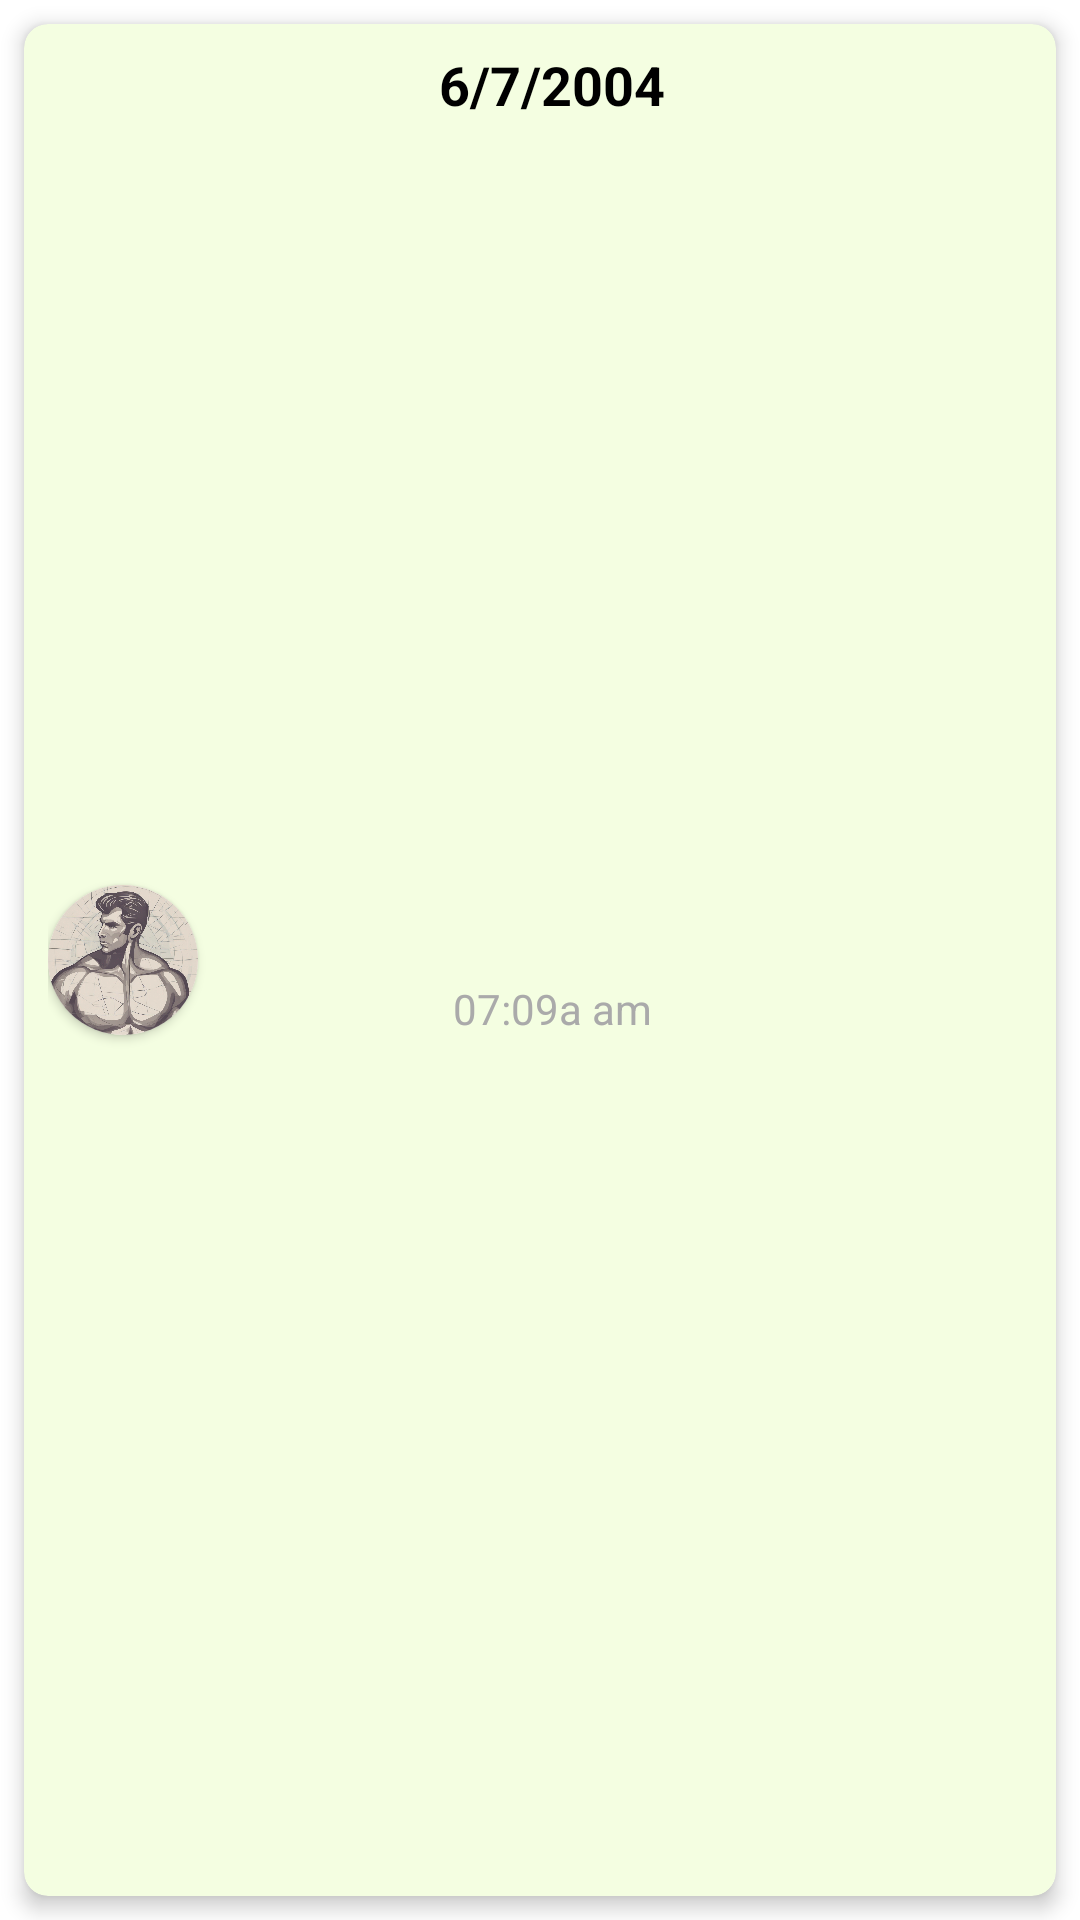

Icons on this 1080*1920 Android screen, each with the point to tap as (x=x, y=y):
imgdp: (x=123, y=960)
